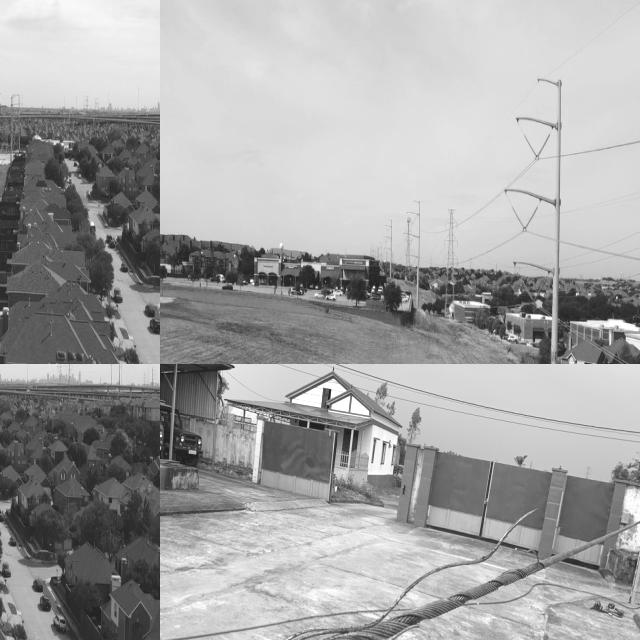杆塔: (442, 206, 461, 329)
正常绝缘子: (519, 200, 543, 240), (516, 271, 540, 310), (520, 126, 541, 164), (507, 200, 529, 236), (531, 131, 552, 166), (531, 272, 550, 307), (636, 253, 640, 288)
电缆破损: (233, 497, 558, 640)
